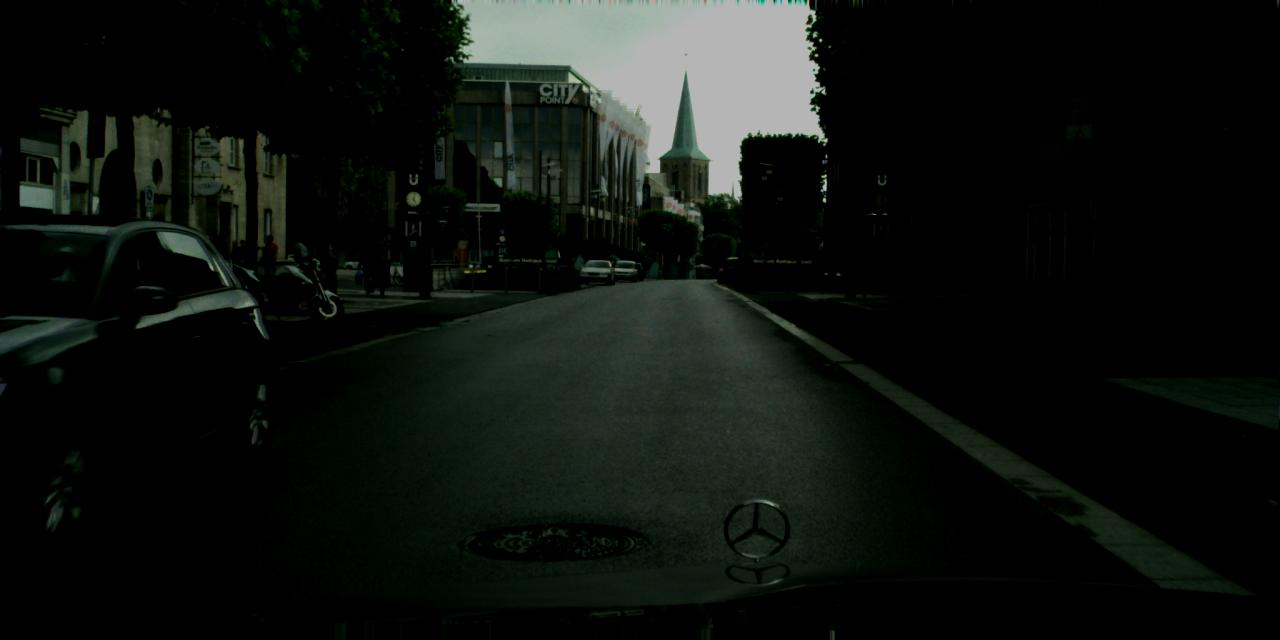ped: (313, 232, 342, 302), (288, 232, 313, 292), (360, 240, 380, 294), (259, 235, 280, 286), (210, 235, 228, 276), (202, 237, 219, 279), (227, 240, 242, 280), (234, 240, 249, 279), (610, 260, 616, 276)
